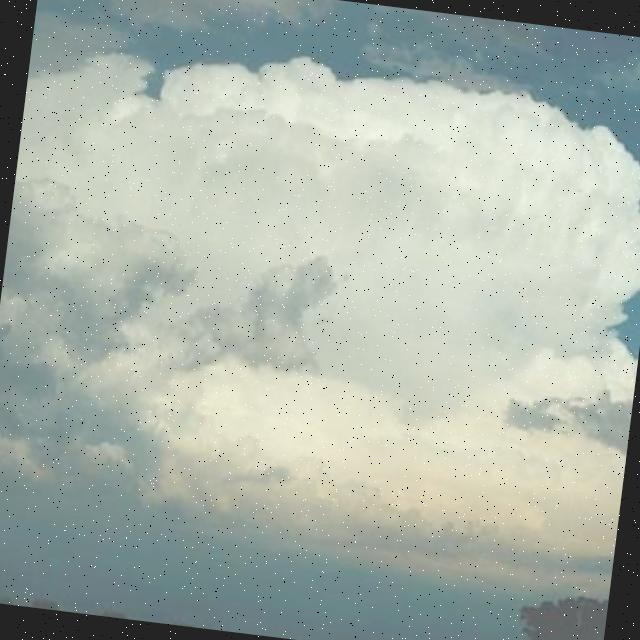Cb: (1, 22, 640, 582)
